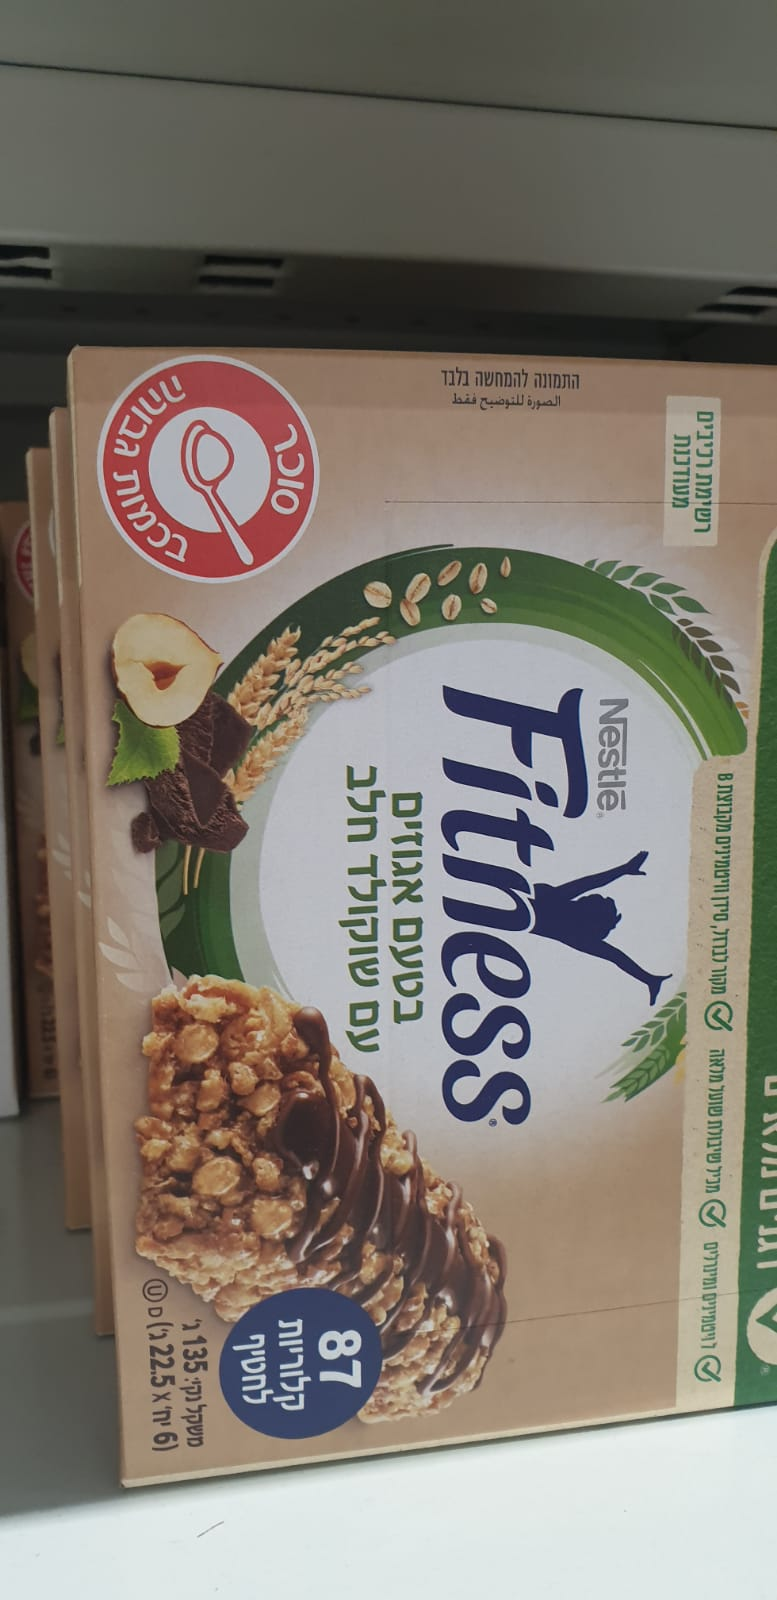sugar: (97, 353, 324, 588)
